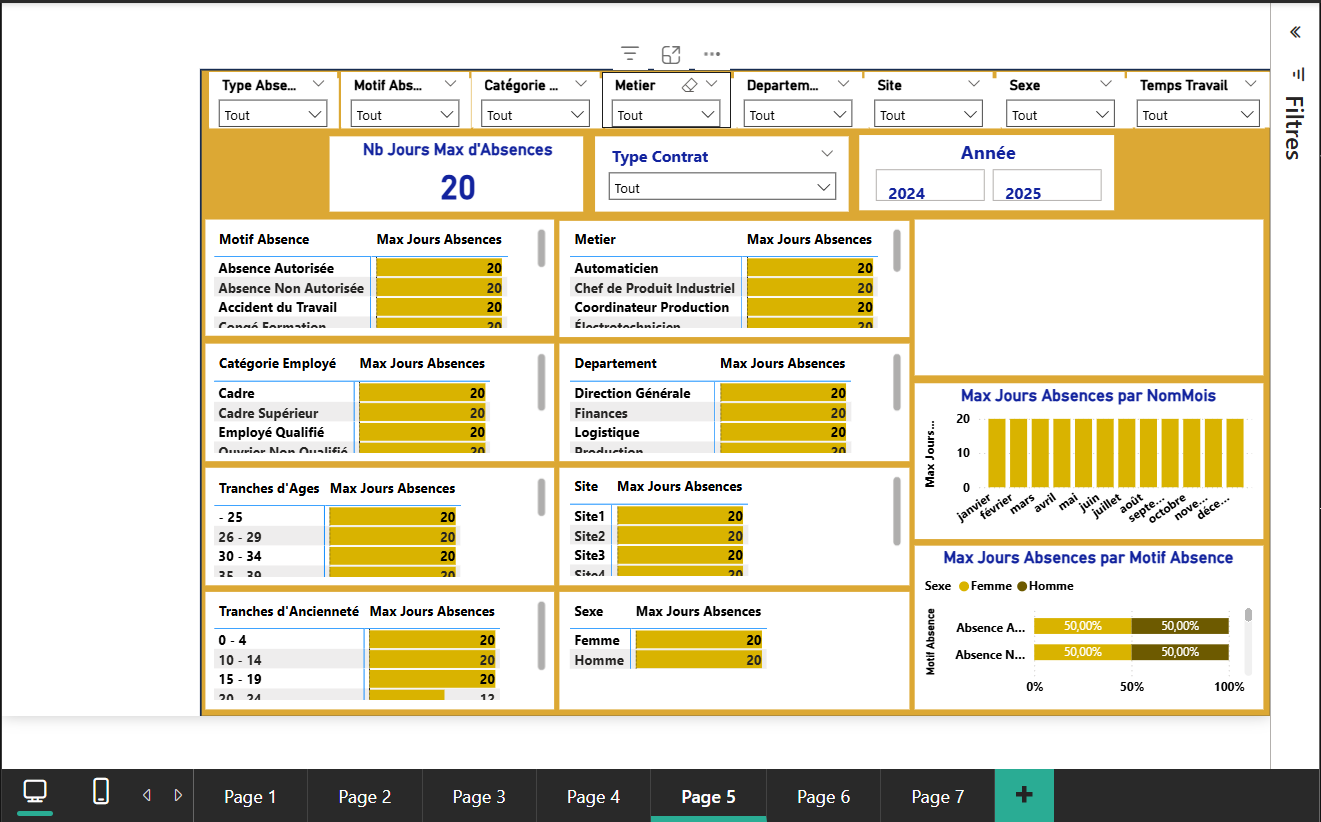

This screenshot's page, from the dashboard's own definition file:
{"tool":"powerbi","page":{"name":"Page 5","canvas":[1280,720],"ordinal":4},"visuals":[{"type":"pivotTable","fields":{"Rows":["Motif Absence.Motif Absence"],"Values":["Mesures.Max Jours Absences"]},"box":[209.3,222.1,345.1,110.2],"z":0},{"type":"pivotTable","fields":{"Values":["Mesures.Max Jours Absences"],"Rows":["Employé.Metier"]},"box":[567.2,222.1,345.1,110.2],"z":1000},{"type":"pivotTable","fields":{"Values":["Mesures.Max Jours Absences"],"Rows":["Employé.Departement"]},"box":[567.2,348.3,345.1,110.2],"z":2000},{"type":"pivotTable","fields":{"Values":["Mesures.Max Jours Absences"],"Rows":["Employé.Site"]},"box":[567.2,472.9,345.1,110.2],"z":3000},{"type":"pivotTable","fields":{"Values":["Mesures.Max Jours Absences"],"Rows":["Employé.Sexe"]},"box":[567.2,597.5,345.1,110.2],"z":4000},{"type":"pivotTable","fields":{"Values":["Mesures.Max Jours Absences"],"Rows":["Employé.Catégorie Employé"]},"box":[209.3,348.3,345.1,110.2],"z":5000},{"type":"pivotTable","fields":{"Values":["Mesures.Max Jours Absences"],"Rows":["Employé.Tranches d'Ages"]},"box":[209.3,474.5,345.1,110.2],"z":6000},{"type":"pivotTable","fields":{"Values":["Mesures.Max Jours Absences"],"Rows":["Employé.Tranches d'Ancienneté"]},"box":[209.3,597.5,345.1,110.2],"z":7000},{"type":"hundredPercentStackedBarChart","title":"Max Jours Absences par Motif Absence","fields":{"Category":["Motif Absence.Motif Absence"],"Y":["Mesures.Max Jours Absences"],"Series":["Employé.Sexe"]},"box":[926.6,549.6,340.3,158.2],"z":8000},{"type":"clusteredColumnChart","fields":{"Category":["TableDates.NomMois"],"Y":["Mesures.Max Jours Absences"]},"box":[926.6,386.6,340.3,153.4],"z":9000},{"type":"card","title":"Nb Jours Max d''Absences","fields":{"Values":["Mesures.Max Jours Absences"]},"box":[333.9,137.4,250.8,70.3],"z":10000},{"type":"slicer","fields":{"Values":["Employé.Type Contrat"]},"box":[602.3,137.4,249.2,70.3],"z":11000},{"type":"advancedSlicerVisual","fields":{"Values":["TableDates.Année"]},"box":[877.1,137.4,238.1,67.1],"z":12000},{"type":"slicer","fields":{"Values":["Motif Absence.Type Absence"]},"box":[209.3,70.3,129.4,55.9],"z":13000},{"type":"slicer","fields":{"Values":["Motif Absence.Motif Absence"]},"box":[341.7,70.3,129.4,55.9],"z":14000},{"type":"slicer","fields":{"Values":["Employé.Catégorie Employé"]},"box":[474.1,70.3,129.4,55.9],"z":15000},{"type":"slicer","fields":{"Values":["Employé.Metier"]},"box":[606.4,70.3,129.4,55.9],"z":16000},{"type":"slicer","fields":{"Values":["Employé.Departement"]},"box":[738.8,70.3,129.4,55.9],"z":17000},{"type":"slicer","fields":{"Values":["Employé.Site"]},"box":[871.2,70.3,129.4,55.9],"z":18000},{"type":"slicer","fields":{"Values":["Employé.Sexe"]},"box":[1003.6,70.3,129.4,55.9],"z":19000},{"type":"slicer","fields":{"Values":["Employé.Temps Travail"]},"box":[1135.9,70.3,143.8,55.9],"z":20000}]}

Visuals, with their boxes on the page's 1280x720 design canvas (x1, y1, x2, y2). These are canvas units, not pixel positions in the 1321x822 screenshot, which may show the page scaled, cropped or inside an application window:
pivotTable - Motif Absence.Motif Absence x Mesures.Max Jours Absences: rect(209, 222, 554, 332)
pivotTable - Mesures.Max Jours Absences x Employé.Metier: rect(567, 222, 912, 332)
pivotTable - Mesures.Max Jours Absences x Employé.Departement: rect(567, 348, 912, 458)
pivotTable - Mesures.Max Jours Absences x Employé.Site: rect(567, 473, 912, 583)
pivotTable - Mesures.Max Jours Absences x Employé.Sexe: rect(567, 598, 912, 708)
pivotTable - Mesures.Max Jours Absences x Employé.Catégorie Employé: rect(209, 348, 554, 458)
pivotTable - Mesures.Max Jours Absences x Employé.Tranches d'Ages: rect(209, 474, 554, 585)
pivotTable - Mesures.Max Jours Absences x Employé.Tranches d'Ancienneté: rect(209, 598, 554, 708)
"Max Jours Absences par Motif Absence" hundredPercentStackedBarChart: rect(927, 550, 1267, 708)
clusteredColumnChart - TableDates.NomMois x Mesures.Max Jours Absences: rect(927, 387, 1267, 540)
"Nb Jours Max d''Absences" card: rect(334, 137, 585, 208)
slicer - Employé.Type Contrat: rect(602, 137, 852, 208)
advancedSlicerVisual - TableDates.Année: rect(877, 137, 1115, 204)
slicer - Motif Absence.Type Absence: rect(209, 70, 339, 126)
slicer - Motif Absence.Motif Absence: rect(342, 70, 471, 126)
slicer - Employé.Catégorie Employé: rect(474, 70, 604, 126)
slicer - Employé.Metier: rect(606, 70, 736, 126)
slicer - Employé.Departement: rect(739, 70, 868, 126)
slicer - Employé.Site: rect(871, 70, 1001, 126)
slicer - Employé.Sexe: rect(1004, 70, 1133, 126)
slicer - Employé.Temps Travail: rect(1136, 70, 1280, 126)
